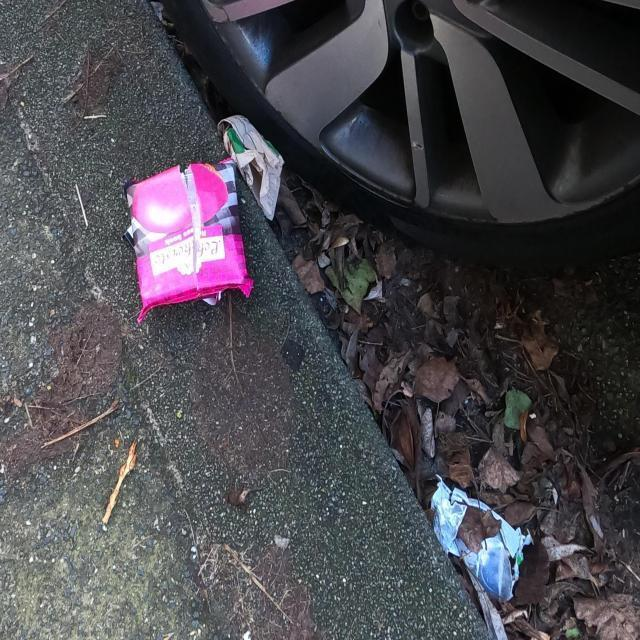Paper: (217, 114, 285, 221)
Plastic: (122, 156, 256, 326)
